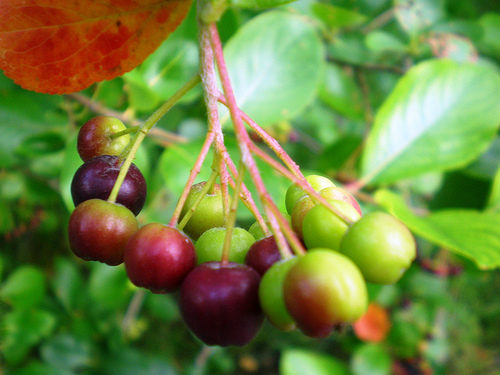apple: (178, 255, 273, 352), (124, 220, 200, 295), (65, 195, 145, 264)
